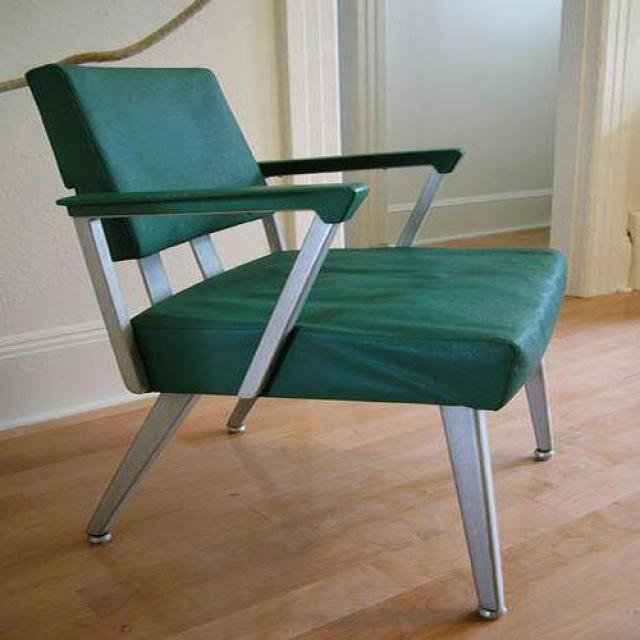chair: (26, 64, 567, 622)
